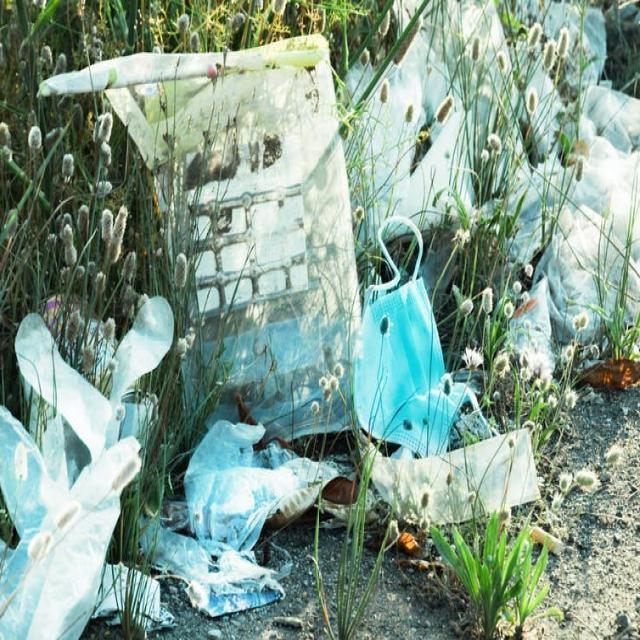face mask: (348, 219, 480, 453)
